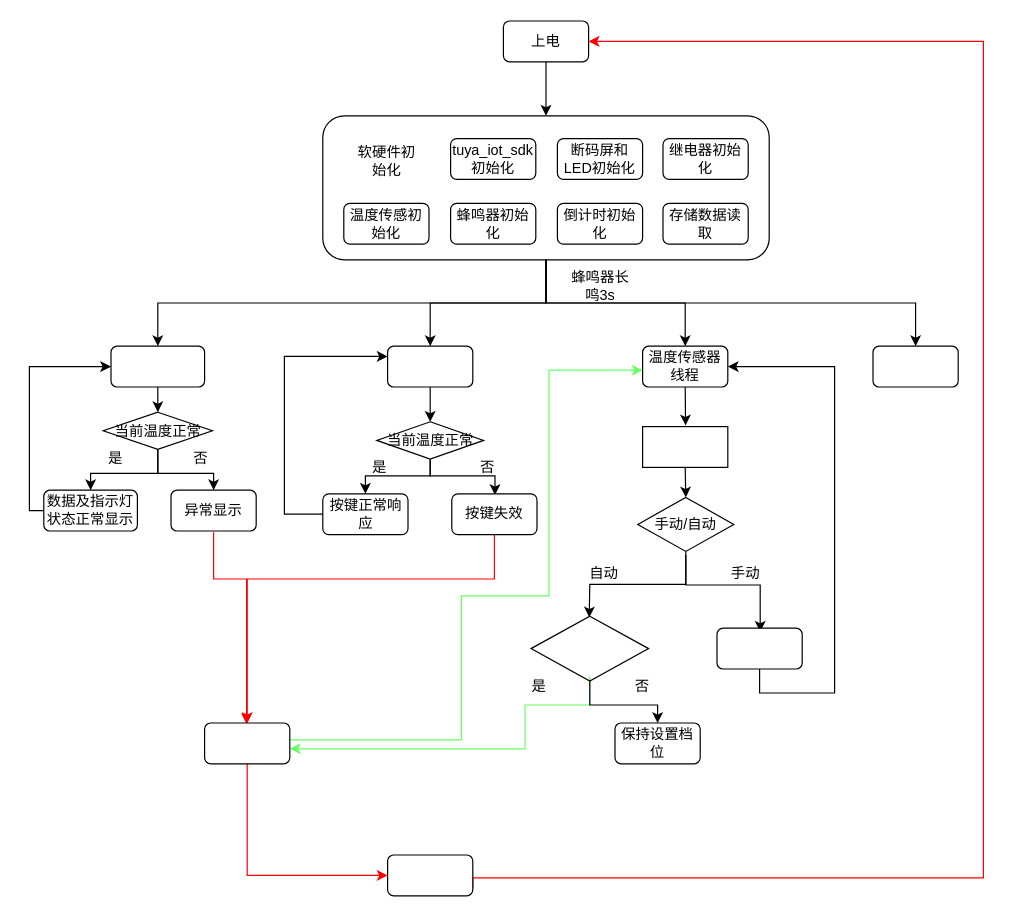
Image size: 1014x919. Some labels were removed from this diagram. The centre of each missing label's shape, as x and y in pixels:
"保持继电器" goes at point (759, 648).
"数据主动上报线程" goes at point (915, 366).
"断开继电器" goes at point (246, 743).
"断码屏和LED显示线程" goes at point (157, 366).
"正常温度获取" goes at point (684, 446).
"蜂鸣器长鸣10s" goes at point (429, 875).
"触摸按键线程" goes at point (429, 366).
"达到目标温度" goes at point (589, 648).
